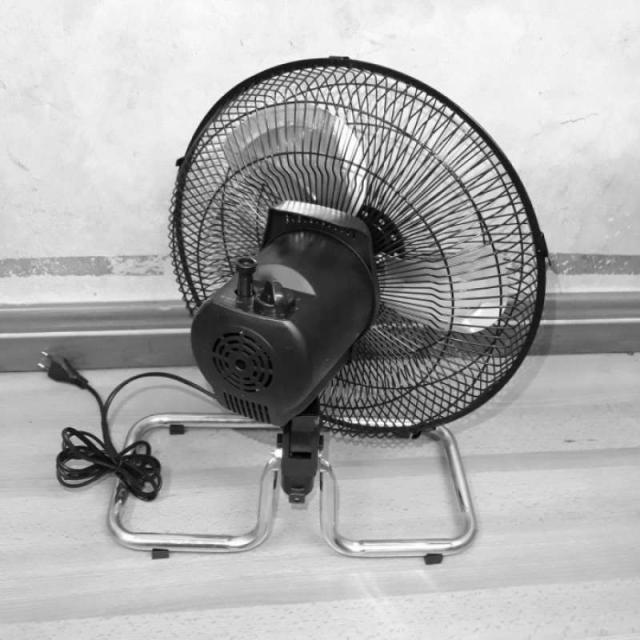fan: (156, 39, 560, 443)
